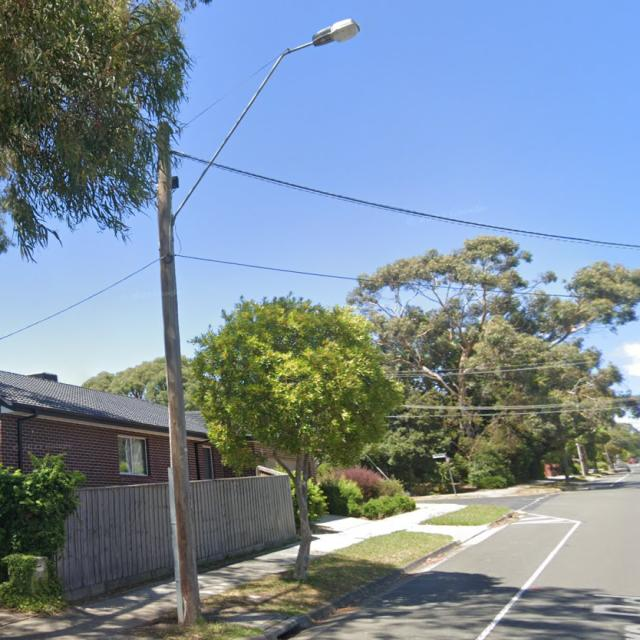streetlight: (170, 17, 362, 228)
timber-pole: (154, 122, 203, 627)
